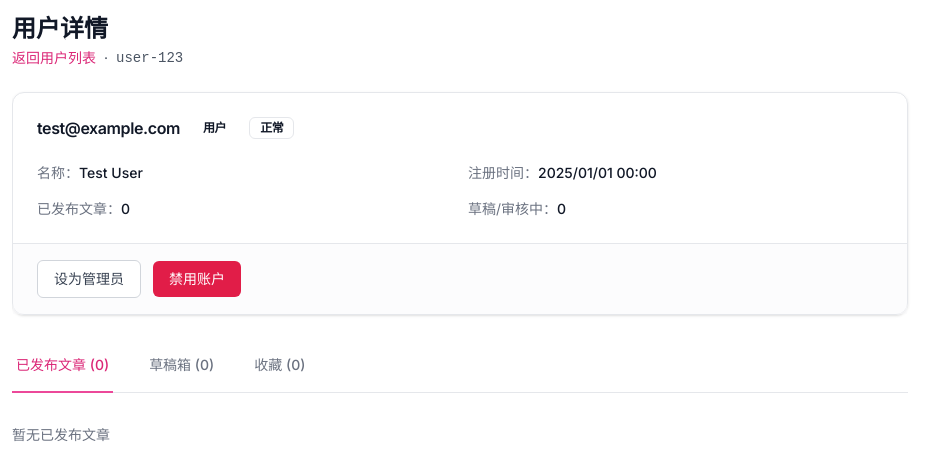
Scenario: admin user detail page › can toggle disabled status
This screenshot has width=925, height=459.
Step 1. Click the button "禁用账户" → coordinates (197, 279), box [153,261,241,297]
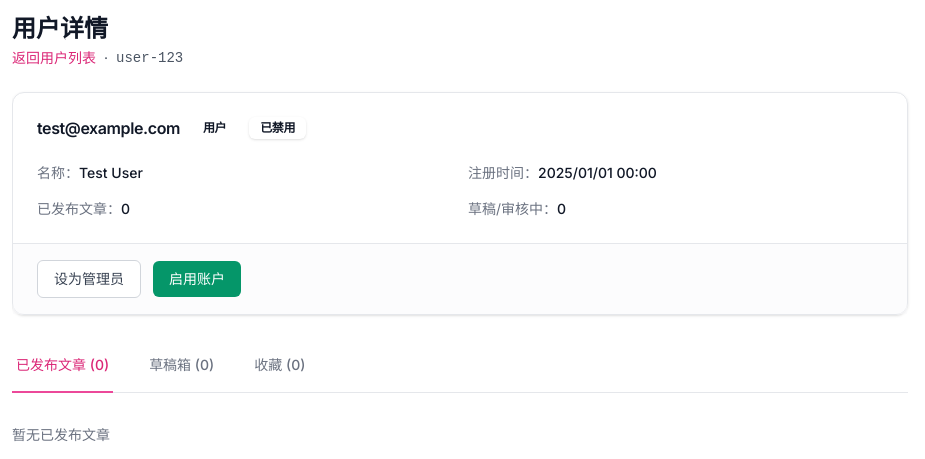
Expected: the button "启用账户" is shown, [153,261,241,297]
